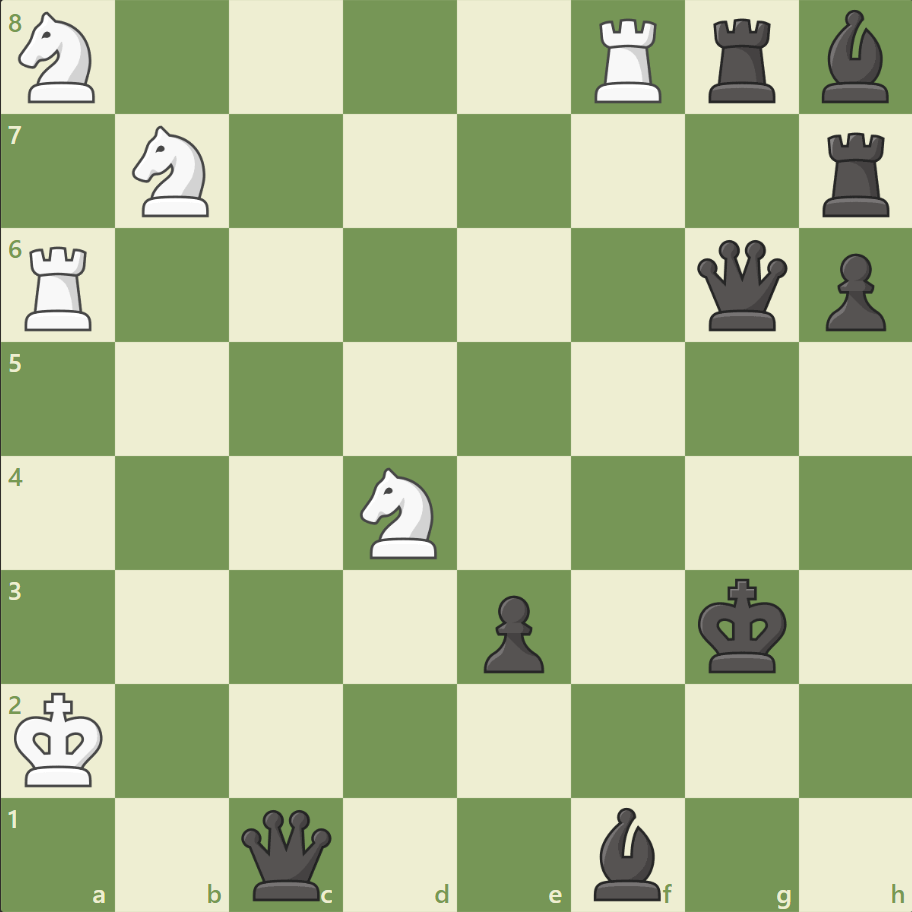K: (11, 685, 111, 793)
N: (351, 461, 449, 564), (124, 121, 222, 223), (11, 7, 108, 110)
R: (587, 12, 670, 109), (19, 239, 102, 336)
b: (812, 6, 896, 109), (585, 801, 669, 904)
k: (692, 571, 792, 679)
p: (474, 586, 549, 677), (815, 246, 889, 337)
q: (691, 236, 790, 335), (237, 804, 336, 903)
r: (700, 12, 783, 109), (814, 125, 897, 222)
